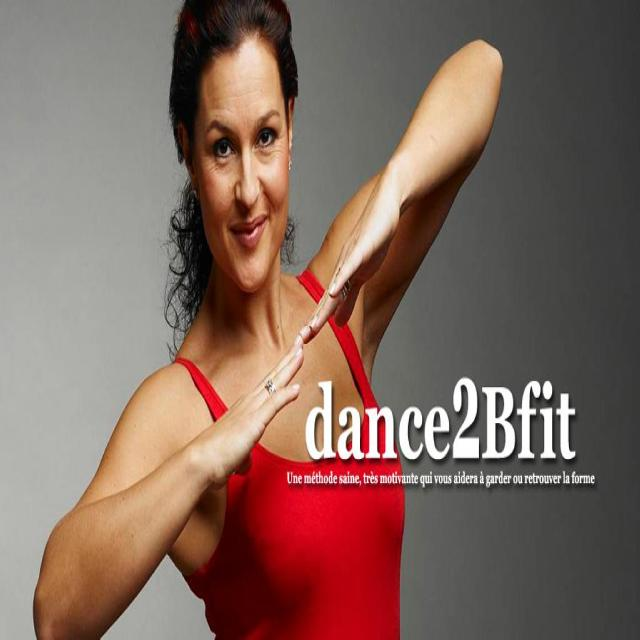Face: (195, 33, 296, 299)
